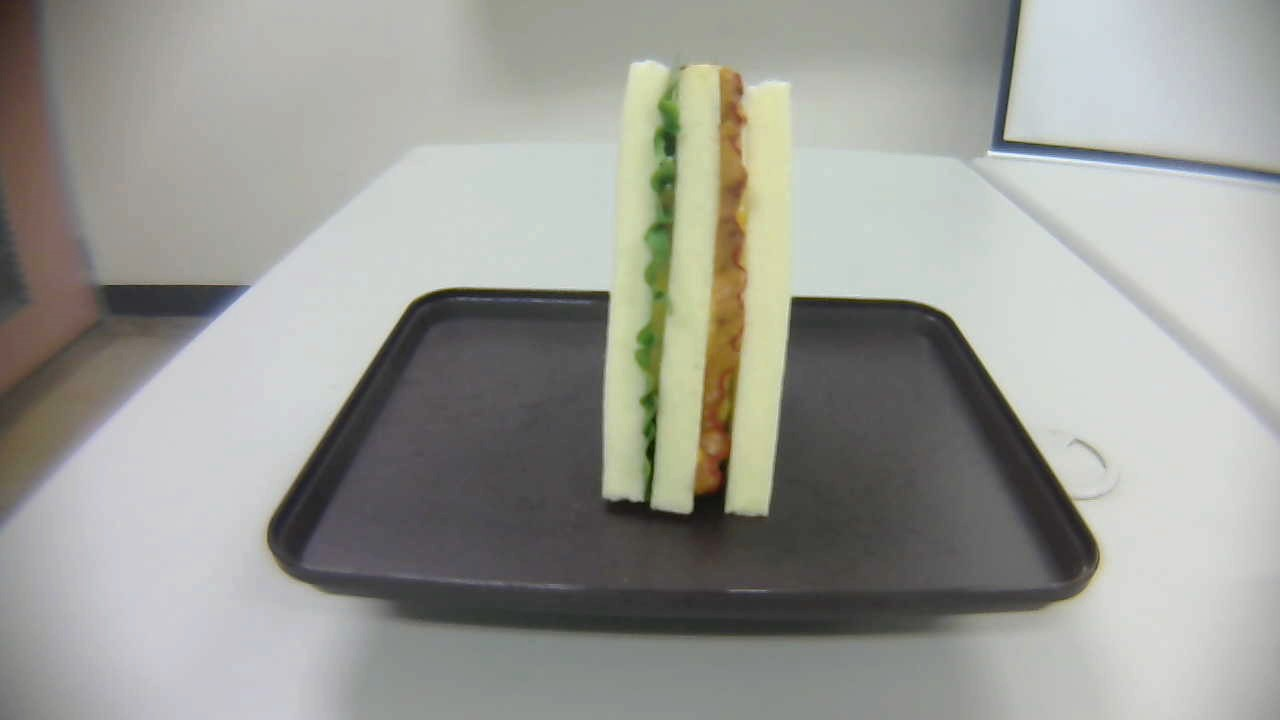sandwich: (602, 60, 794, 520)
